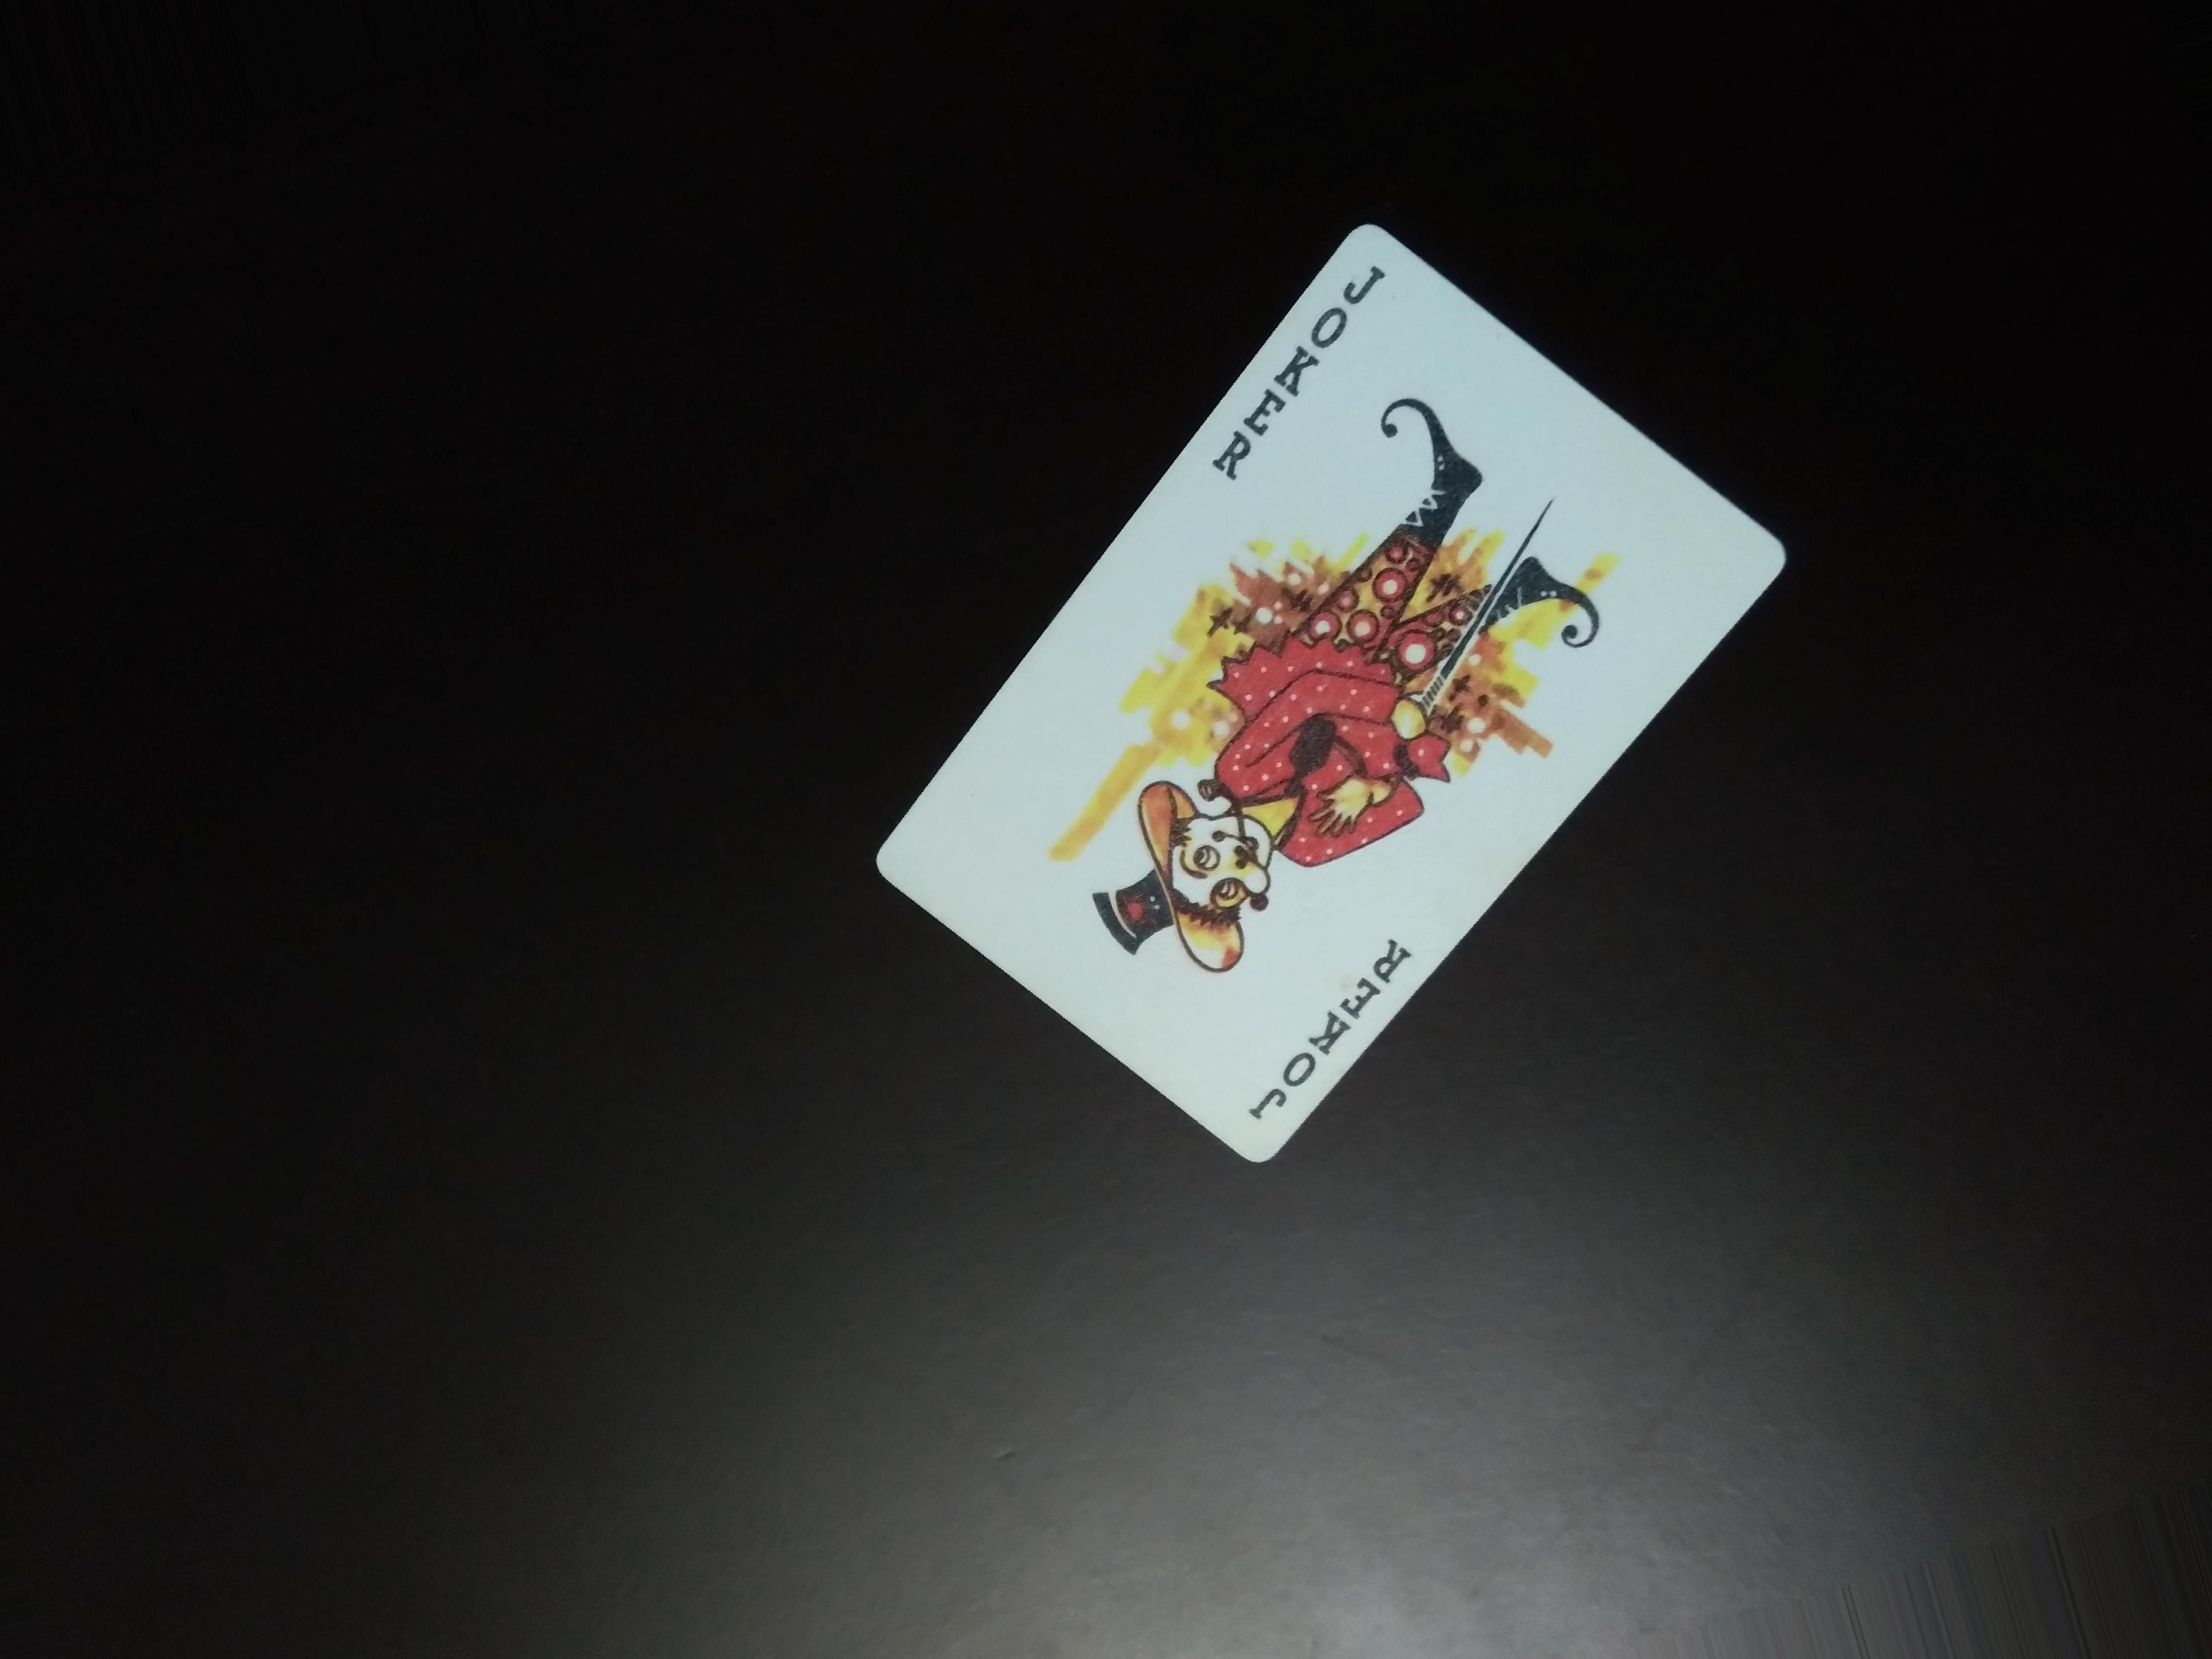JOKER: (1204, 244, 1379, 500)
